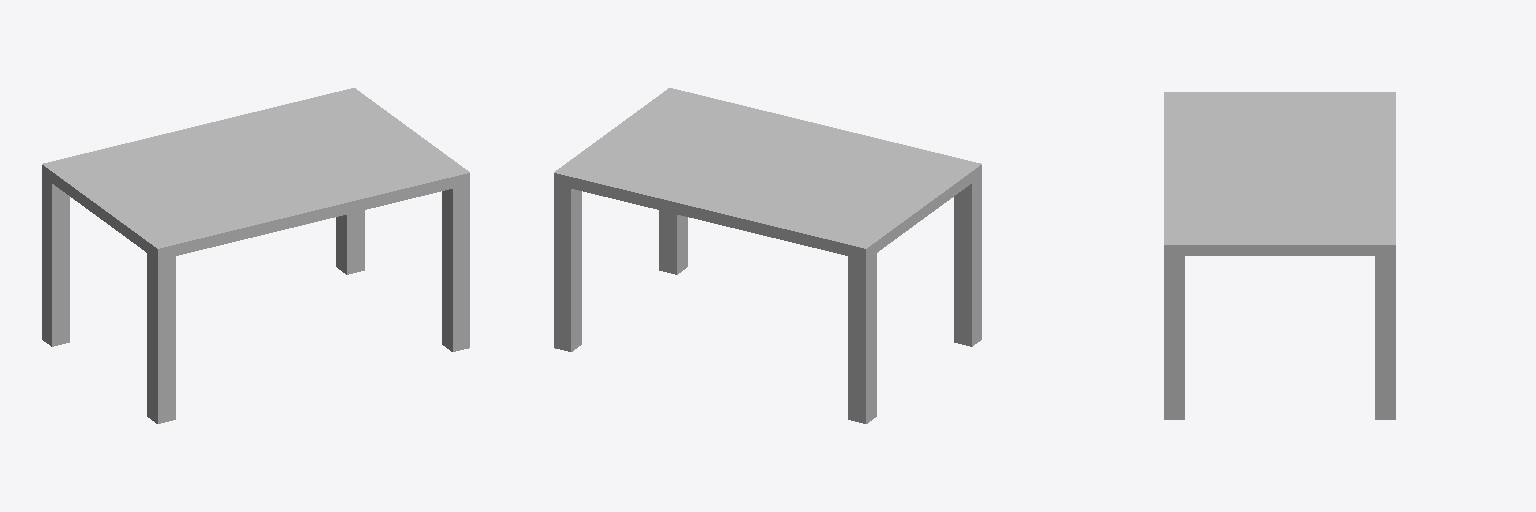
Rendered from table4.obj.
The picture shows the model from 3 angles: view 1: azimuth 30°, elevation 25°; view 2: azimuth 150°, elevation 25°; view 3: azimuth 270°, elevation 25°; orthographic projection.
Parts seen in each view (by area): view 1: fusta_taula_tipical.j_fusta_taula_tipical.j_fusta_taula_tipical.; view 2: fusta_taula_tipical.j_fusta_taula_tipical.j_fusta_taula_tipical.; view 3: fusta_taula_tipical.j_fusta_taula_tipical.j_fusta_taula_tipical..
Boxes of the visible parts, x1,y1,x2,y2 form: fusta_taula_tipical.j_fusta_taula_tipical.j_fusta_taula_tipical.: [42, 88, 469, 423]; fusta_taula_tipical.j_fusta_taula_tipical.j_fusta_taula_tipical.: [554, 88, 981, 423]; fusta_taula_tipical.j_fusta_taula_tipical.j_fusta_taula_tipical.: [1164, 92, 1395, 419].
Bounding box in the file's own units: 1 × 0.5357 × 0.6429.